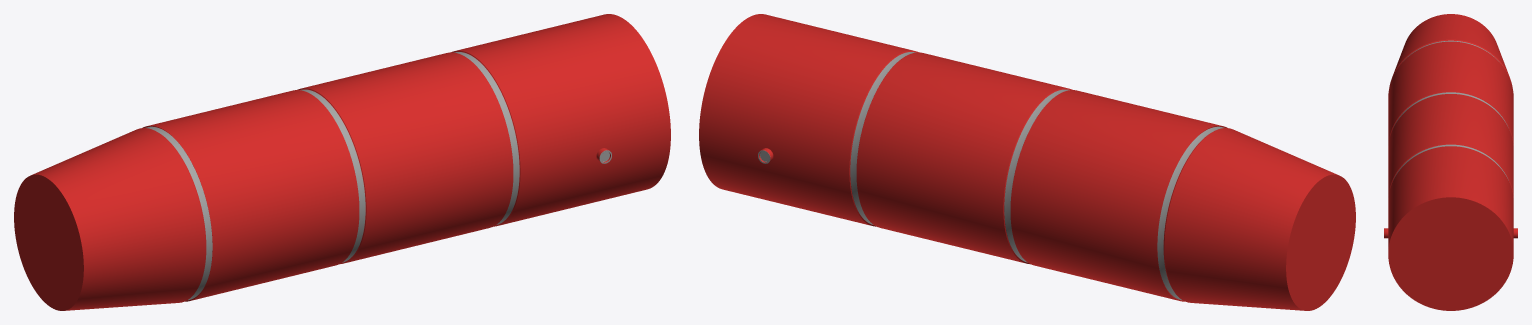
The model's file is Castor_Behälter_rot.fbx.
3 renders of one model, left to right at view 1: azimuth 30°, elevation 25°; view 2: azimuth 150°, elevation 25°; view 3: azimuth 270°, elevation 25°, orthographic. The views are drawn at different scales.
Visible parts, largest first — view 1: Cylinder.002; view 2: Cylinder.002; view 3: Cylinder.002.
Boxes of the visible parts, box(x1,y1,x2,y2) form: Cylinder.002: box(14, 14, 670, 310); Cylinder.002: box(699, 14, 1355, 310); Cylinder.002: box(1384, 14, 1517, 310).
Size of the model in its own units: 555 by 150 by 160.
